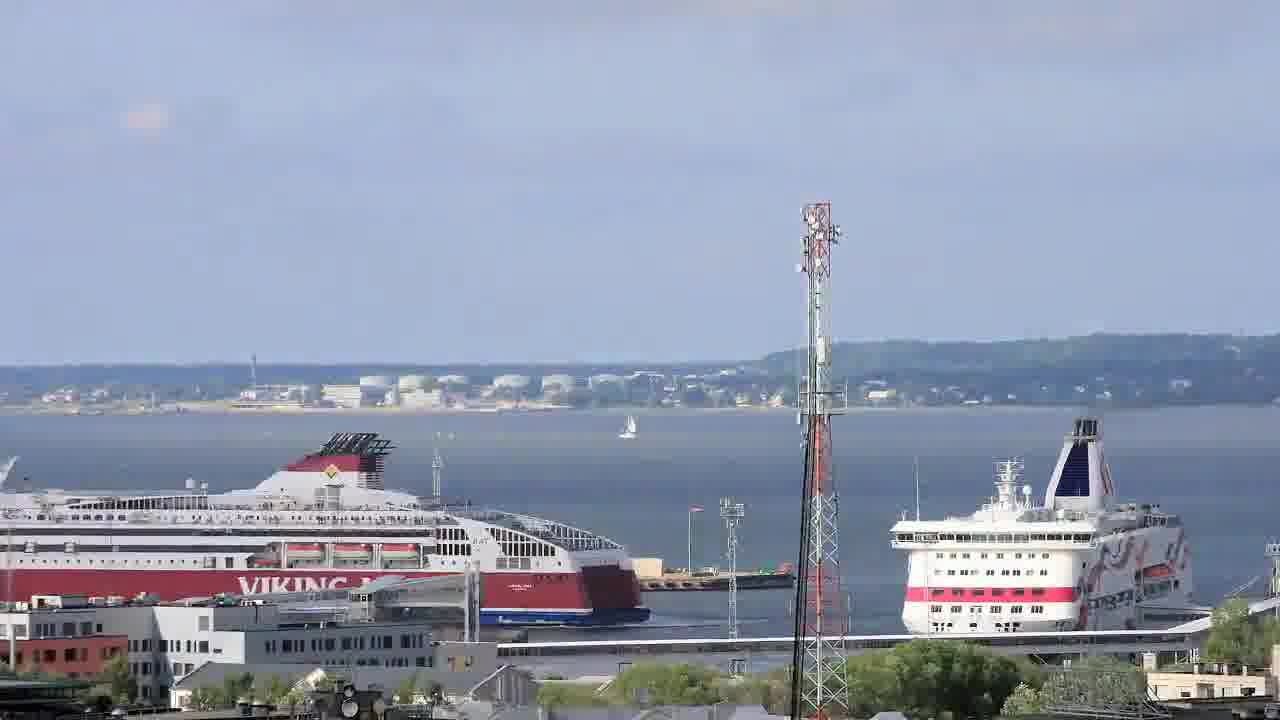type-2: (595, 392, 657, 454)
type-3: (0, 432, 632, 625), (868, 415, 1225, 638)
